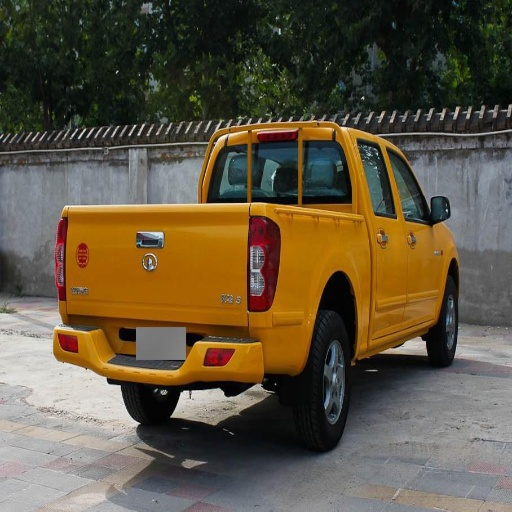back_bumper: (56, 315, 266, 385)
back_right_door: (359, 140, 407, 336)
trunk: (68, 206, 364, 369)
